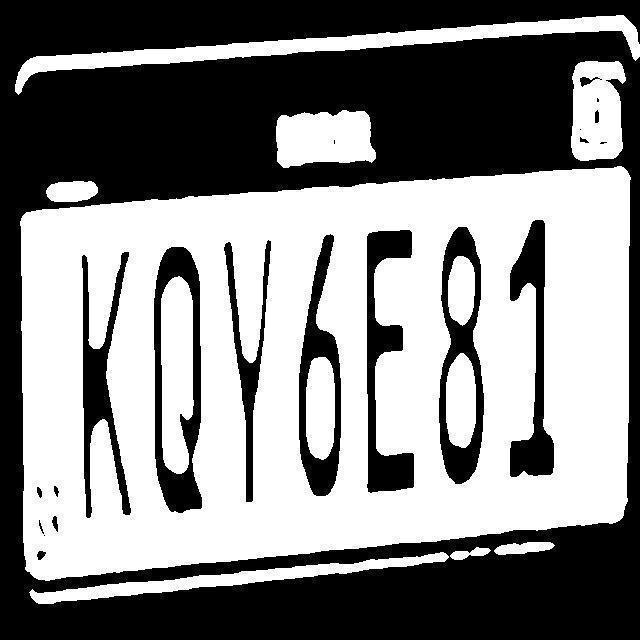1: (496, 212, 560, 486)
6: (291, 232, 350, 507)
8: (431, 223, 488, 491)
e: (356, 225, 423, 510)
k: (76, 247, 136, 525)
q: (148, 242, 216, 522)
y: (222, 240, 285, 509)
